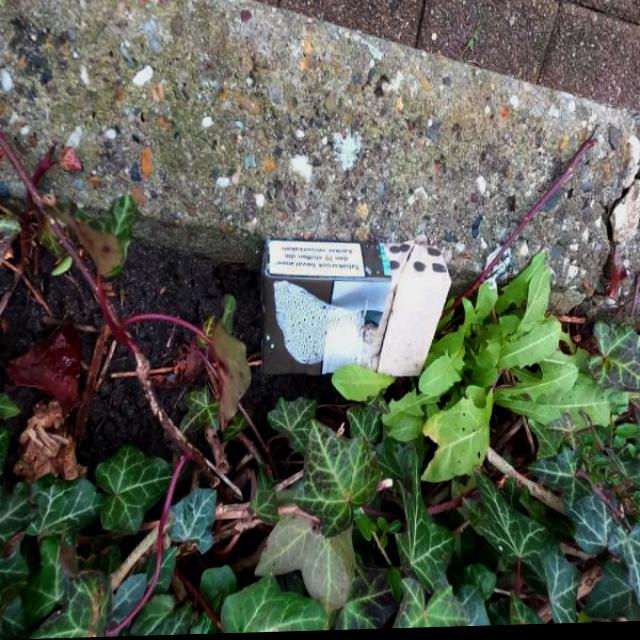Paper: (260, 233, 453, 383)
Plastic: (529, 443, 559, 482)
